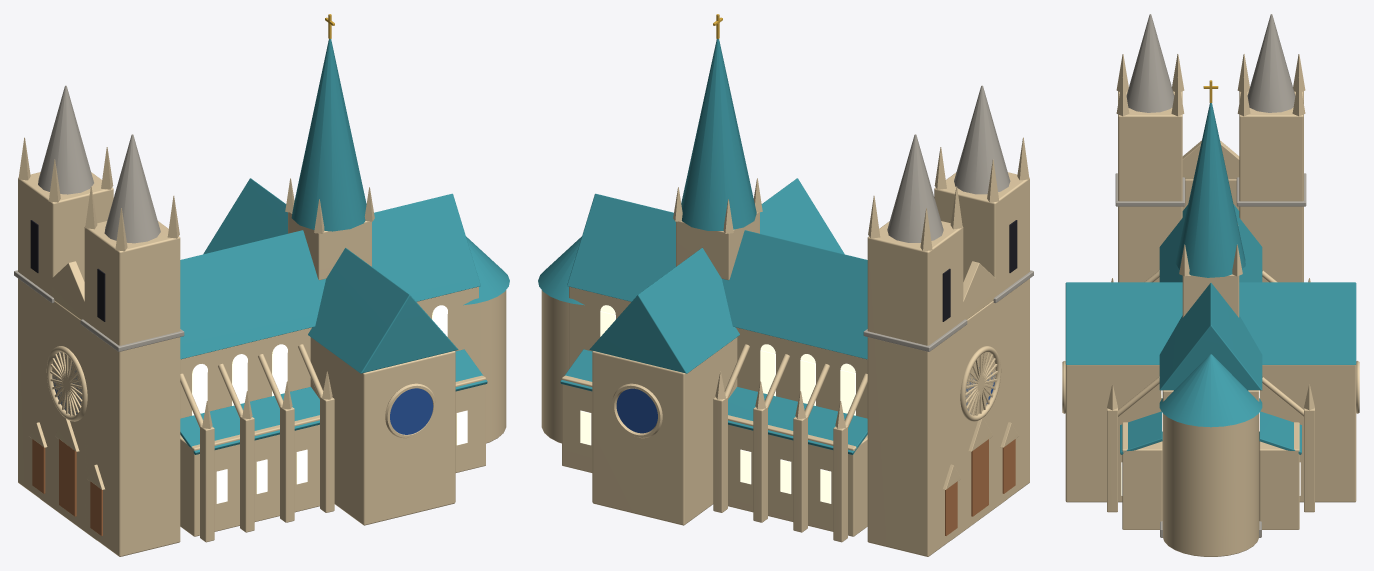
File: cathedral.glb
The picture shows the model from 3 angles, left to right: view 1: azimuth 30°, elevation 25°; view 2: azimuth 150°, elevation 25°; view 3: azimuth 270°, elevation 25°; orthographic projection. The views are drawn at different scales.
Visible parts, largest first — view 1: cathedral; view 2: cathedral; view 3: cathedral.
Boxes of the visible parts, x1,y1,x2,y2 form: cathedral: (14, 14, 509, 556); cathedral: (538, 14, 1033, 556); cathedral: (1062, 14, 1359, 556).
Bounding box in the file's own units: 40.93 × 39.53 × 26.51.
1 material, 1 textured.
